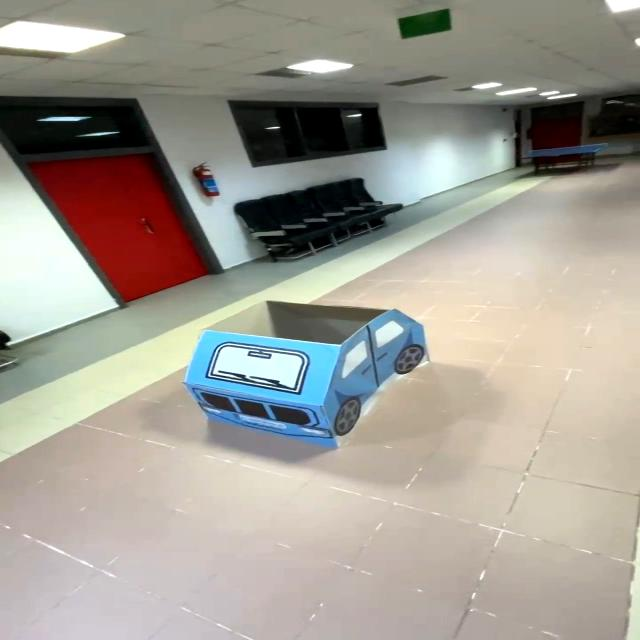blue_car: (167, 278, 442, 479)
